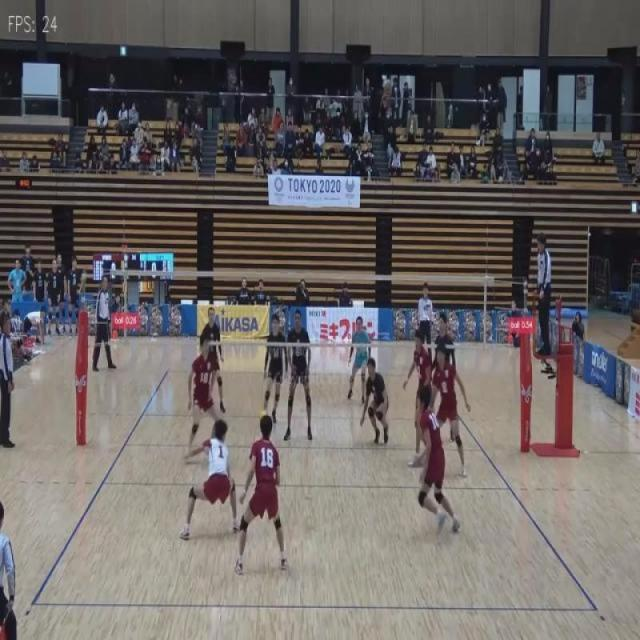volleyball: (260, 408, 268, 421)
